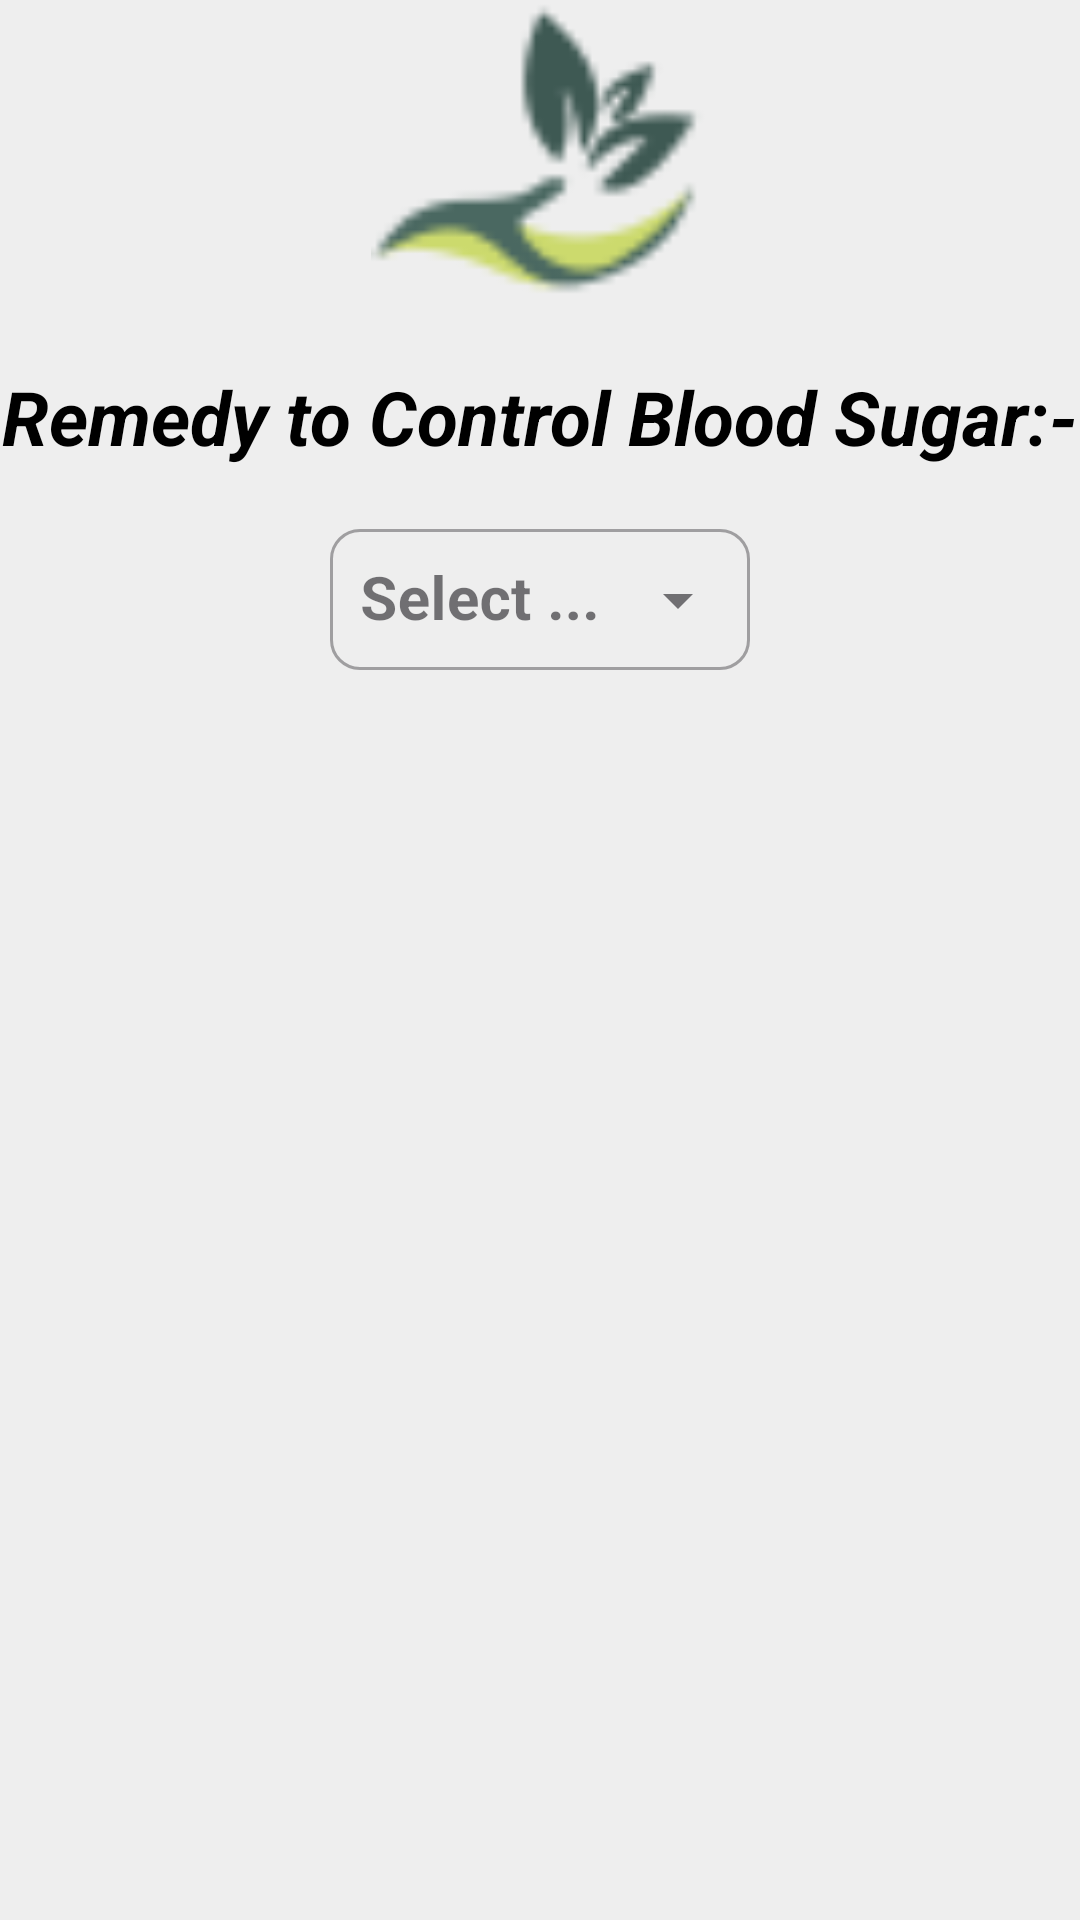

Icon click points for this 1080 × 1920 phone screenshot, format [x,y]:
plant: [535,150]
